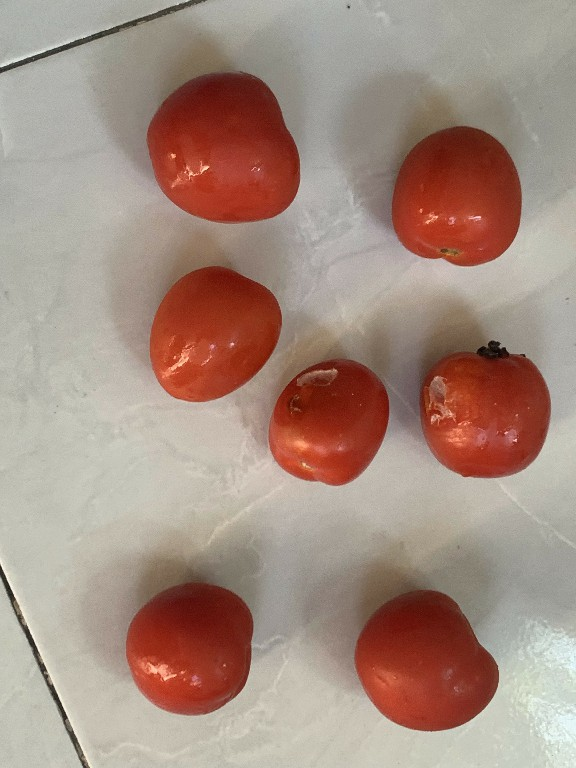NG: (420, 340, 555, 479), (263, 356, 390, 486)
OK: (145, 68, 308, 227), (347, 588, 500, 733), (388, 118, 524, 281), (152, 251, 280, 407), (127, 578, 255, 720)
